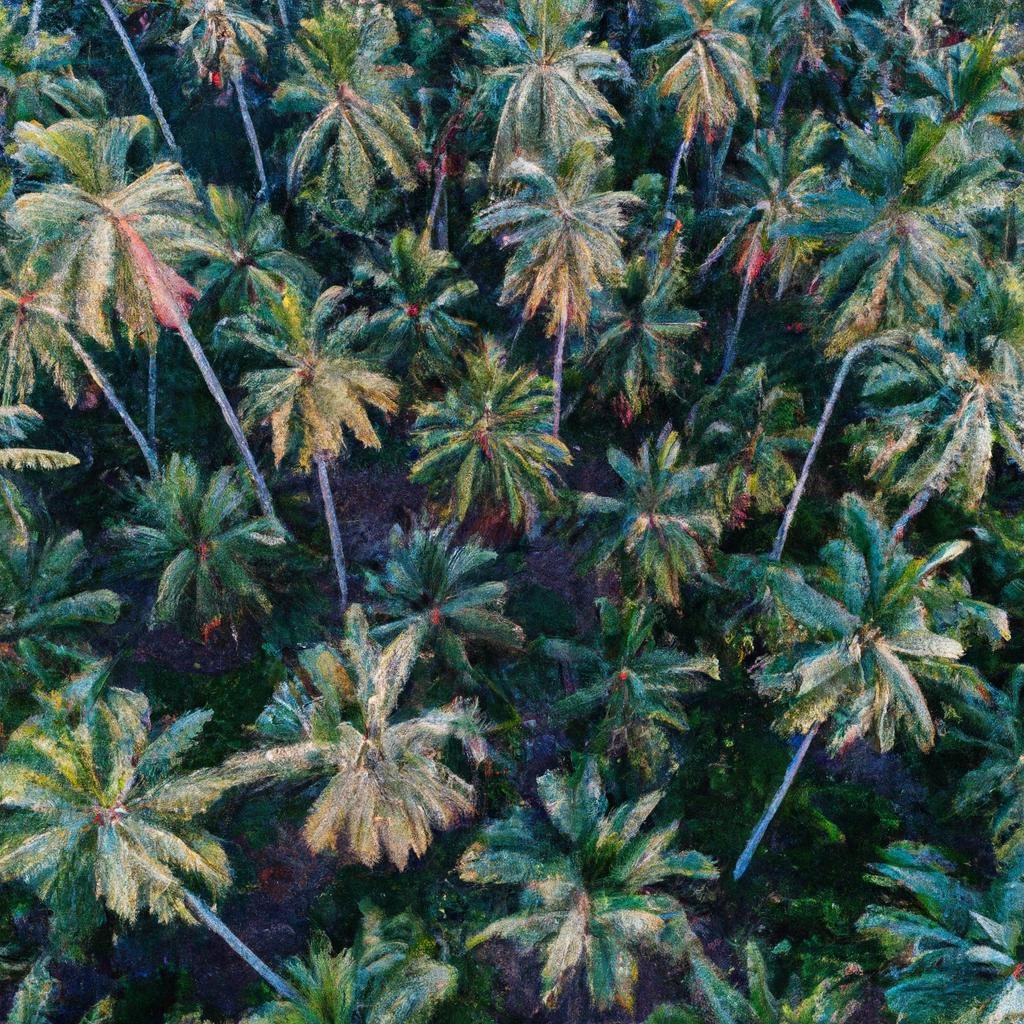coconut_tree: (461, 762, 716, 1002), (253, 608, 485, 866), (737, 504, 975, 751), (5, 677, 239, 916), (21, 115, 221, 348), (840, 129, 1002, 353), (277, 5, 445, 207), (228, 285, 399, 467), (486, 147, 629, 326), (466, 4, 628, 154), (731, 137, 851, 277)
